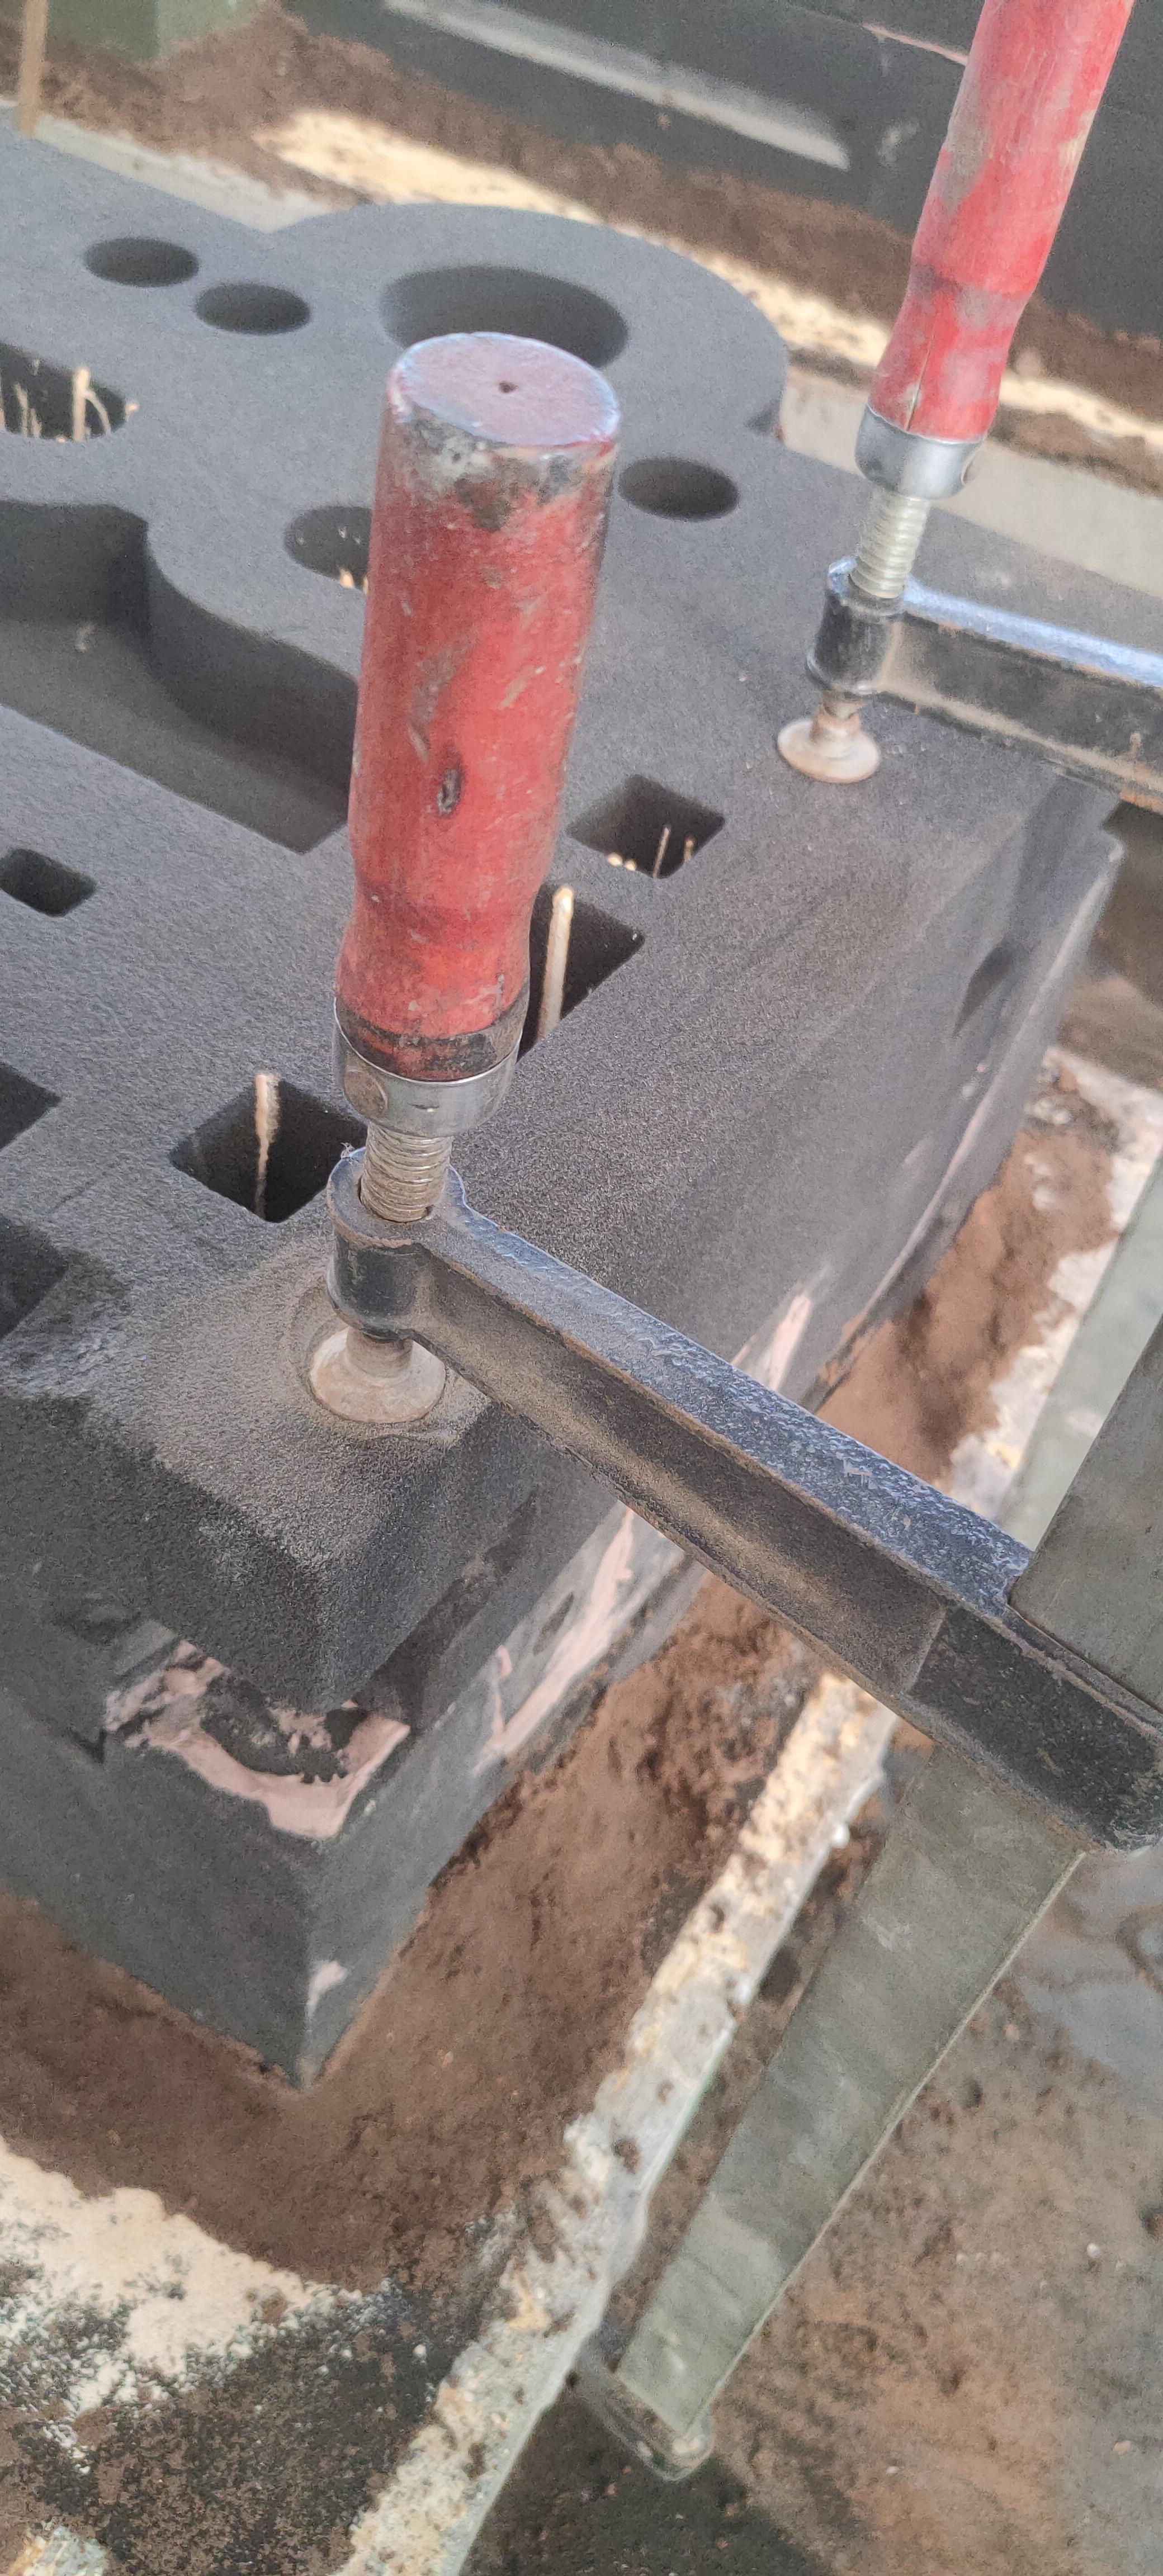pouring hole: (368, 261, 632, 384)
